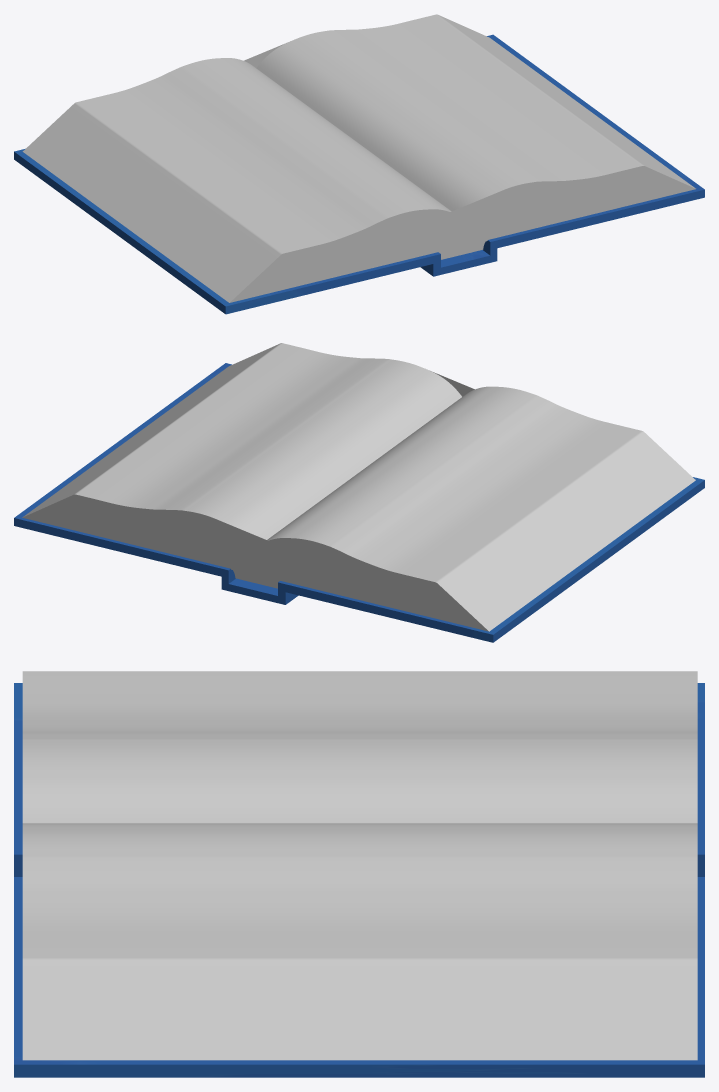
File: BlueBookOpen.fbx
The picture shows the model from 3 angles, top to bottom: view 1: azimuth 30°, elevation 25°; view 2: azimuth 150°, elevation 25°; view 3: azimuth 270°, elevation 25°; orthographic projection. The views are drawn at different scales.
Visible parts, largest first — view 1: polySurface3, book3; view 2: polySurface3, book3; view 3: polySurface3, book3.
Part boxes in pixels (box(x1,y1,x2,y2)): polySurface3: box(22, 14, 695, 302); book3: box(14, 34, 704, 314); polySurface3: box(22, 343, 695, 631); book3: box(14, 363, 704, 642); polySurface3: box(22, 671, 697, 1060); book3: box(14, 683, 704, 1077).
Size of the model in its own units: 32.45 by 4.42 by 24.83.
